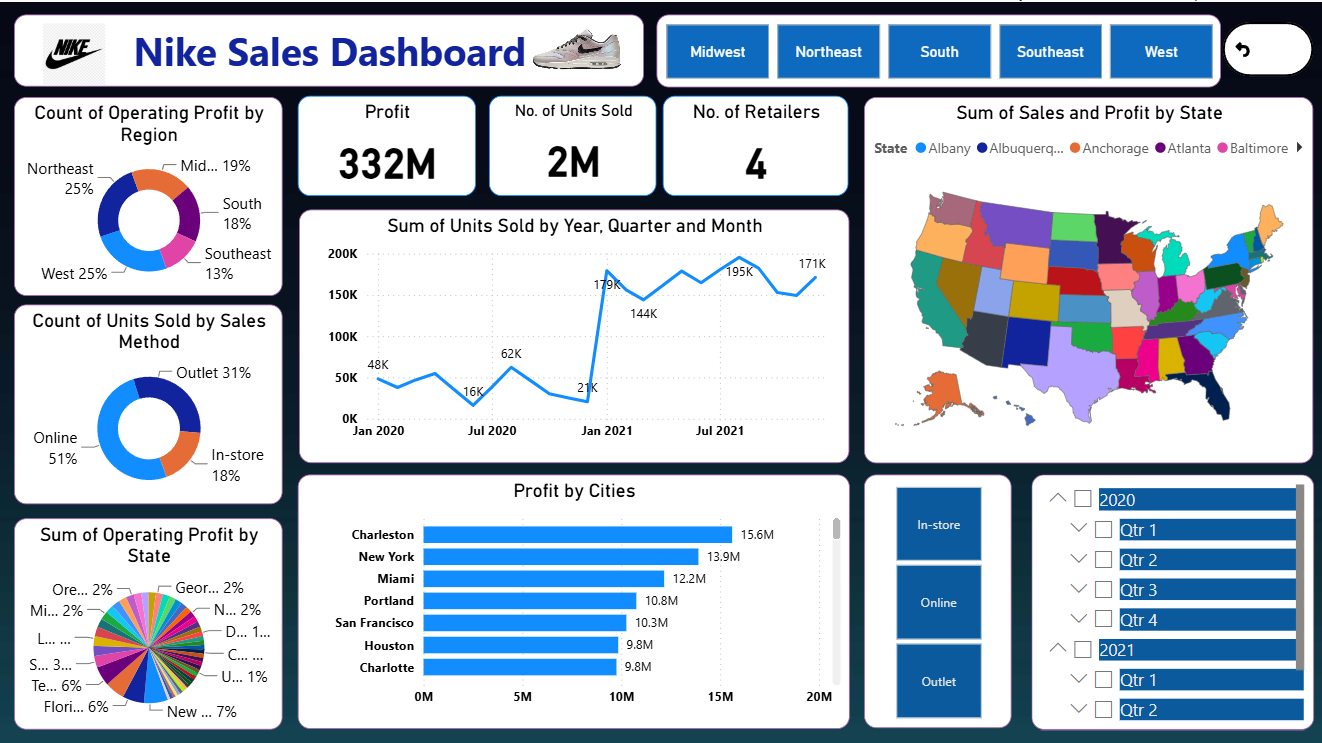

Layout of this report page (visuals, bound fields, positions):
{"tool":"powerbi","page":{"name":"Dashboard ","canvas":[1280,720],"ordinal":3},"visuals":[{"type":"barChart","title":"Profit by Cities","fields":{"Y":["Sum(Data Sales Nike.Operating Profit)"],"Category":["Data Sales Nike.City"]},"box":[288.3,456.4,532.5,245.4],"z":0},{"type":"shapeMap","title":"Sum of Sales and  Profit by State","fields":{"Category":["Data Sales Nike.State"],"Series":["Data Sales Nike.City"],"Value":["Sum(Data Sales Nike.Operating Profit)"]},"box":[835,91.2,433.8,353.8],"z":1000},{"type":"donutChart","fields":{"Category":["Data Sales Nike.Sales Method"],"Y":["CountNonNull(Data Sales Nike.Units Sold)"]},"box":[14.5,291.9,259.3,193],"z":2000},{"type":"pieChart","fields":{"Category":["Data Sales Nike.State"],"Y":["Sum(Data Sales Nike.Operating Profit)"]},"box":[14.5,498.1,259.3,203.8],"z":3000},{"type":"slicer","fields":{"Values":["Data Sales Nike.Invoice Date.Variation.Date Hierarchy.Year","Data Sales Nike.Invoice Date.Variation.Date Hierarchy.Quarter","Data Sales Nike.Invoice Date.Variation.Date Hierarchy.Month","Data Sales Nike.Invoice Date.Variation.Date Hierarchy.Day"]},"box":[996.5,456,272.7,246.1],"z":4000},{"type":"textbox","box":[14.5,12.1,607.8,69.9],"z":5000},{"type":"card","title":"Profit","fields":{"Values":["Sum(Data Sales Nike.Operating Profit)"]},"box":[288.3,90.8,171.8,96.9],"z":6000},{"type":"card","title":"No. of Units Sold","fields":{"Values":["Sum(Data Sales Nike.Units Sold)"]},"box":[472.4,90.8,162,96.9],"z":7000},{"type":"card","title":"No. of Retailers","fields":{"Values":["Count(Data Sales Nike.Retailer ID)"]},"box":[640.5,90.8,179.1,96.9],"z":8000},{"type":"donutChart","fields":{"Category":["Data Sales Nike.Region"],"Y":["CountNonNull(Data Sales Nike.Operating Profit)"]},"box":[14.5,91.7,259.3,191.8],"z":9000},{"type":"image","box":[508.1,15.1,98.8,61.6],"z":10000},{"type":"slicer","title":"Sales Method","fields":{"Values":["Data Sales Nike.Sales Method"]},"box":[835,456.2,142.5,245],"z":11000},{"type":"image","box":[635,0,105,105],"z":12000},{"type":"lineChart","fields":{"Category":["Data Sales Nike.Invoice Date.Variation.Date Hierarchy.Year","Data Sales Nike.Invoice Date.Variation.Date Hierarchy.Quarter","Data Sales Nike.Invoice Date.Variation.Date Hierarchy.Month","Data Sales Nike.Invoice Date.Variation.Date Hierarchy.Day"],"Y":["Sum(Data Sales Nike.Units Sold)"]},"box":[289.5,200.3,530.8,244.9],"z":13000},{"type":"advancedSlicerVisual","fields":{"Values":["Data Sales Nike.Region"]},"box":[635,12.5,545,70],"z":14000},{"type":"actionButton","box":[1181.2,18.8,87.5,52.5],"z":15000},{"type":"image","box":[14,15.1,116.3,69.8],"z":16000}]}

Visuals, with their boxes in screenshot pixels (x1, y1, x2, y2), scaled from the page's 1280x720 canvas onto the 1322x743 screenshot:
"Profit by Cities" barChart: BBox(298, 471, 848, 724)
"Sum of Sales and  Profit by State" shapeMap: BBox(862, 94, 1310, 459)
donutChart - Data Sales Nike.Sales Method x CountNonNull(Data Sales Nike.Units Sold): BBox(15, 301, 283, 500)
pieChart - Data Sales Nike.State x Sum(Data Sales Nike.Operating Profit): BBox(15, 514, 283, 724)
slicer - Data Sales Nike.Invoice Date.Variation.Date Hierarchy.Year x Data Sales Nike.Invoice Date.Variation.Date Hierarchy.Quarter: BBox(1029, 471, 1311, 725)
textbox: BBox(15, 12, 643, 85)
"Profit" card: BBox(298, 94, 475, 194)
"No. of Units Sold" card: BBox(488, 94, 655, 194)
"No. of Retailers" card: BBox(662, 94, 846, 194)
donutChart - Data Sales Nike.Region x CountNonNull(Data Sales Nike.Operating Profit): BBox(15, 95, 283, 293)
image: BBox(525, 16, 627, 79)
"Sales Method" slicer: BBox(862, 471, 1010, 724)
image: BBox(656, 0, 764, 108)
lineChart - Data Sales Nike.Invoice Date.Variation.Date Hierarchy.Year x Data Sales Nike.Invoice Date.Variation.Date Hierarchy.Quarter: BBox(299, 207, 847, 459)
advancedSlicerVisual - Data Sales Nike.Region: BBox(656, 13, 1219, 85)
actionButton: BBox(1220, 19, 1310, 74)
image: BBox(14, 16, 135, 88)
